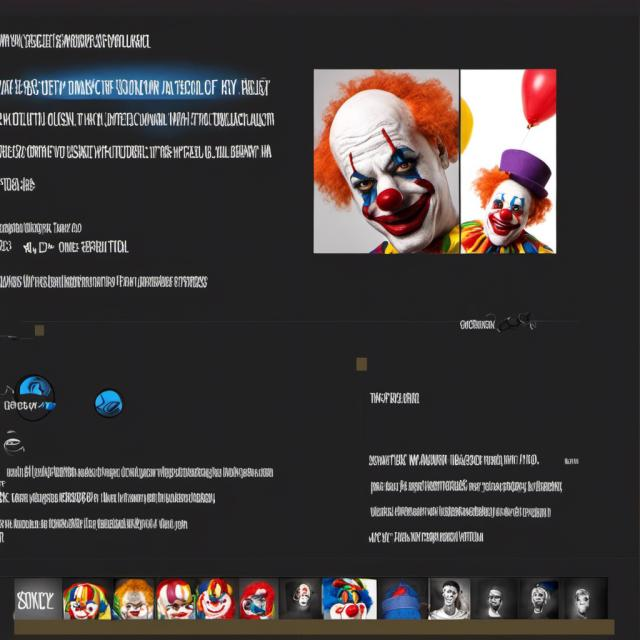clown: (307, 79, 468, 257), (467, 141, 558, 256)
